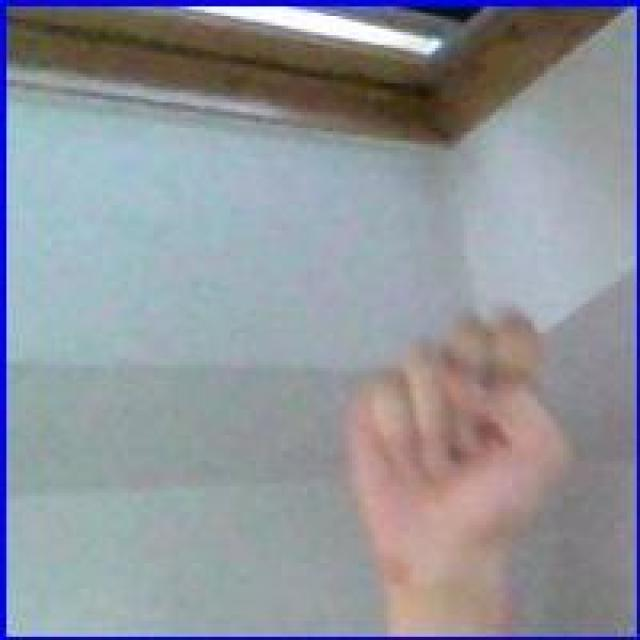S: (330, 299, 579, 546)
